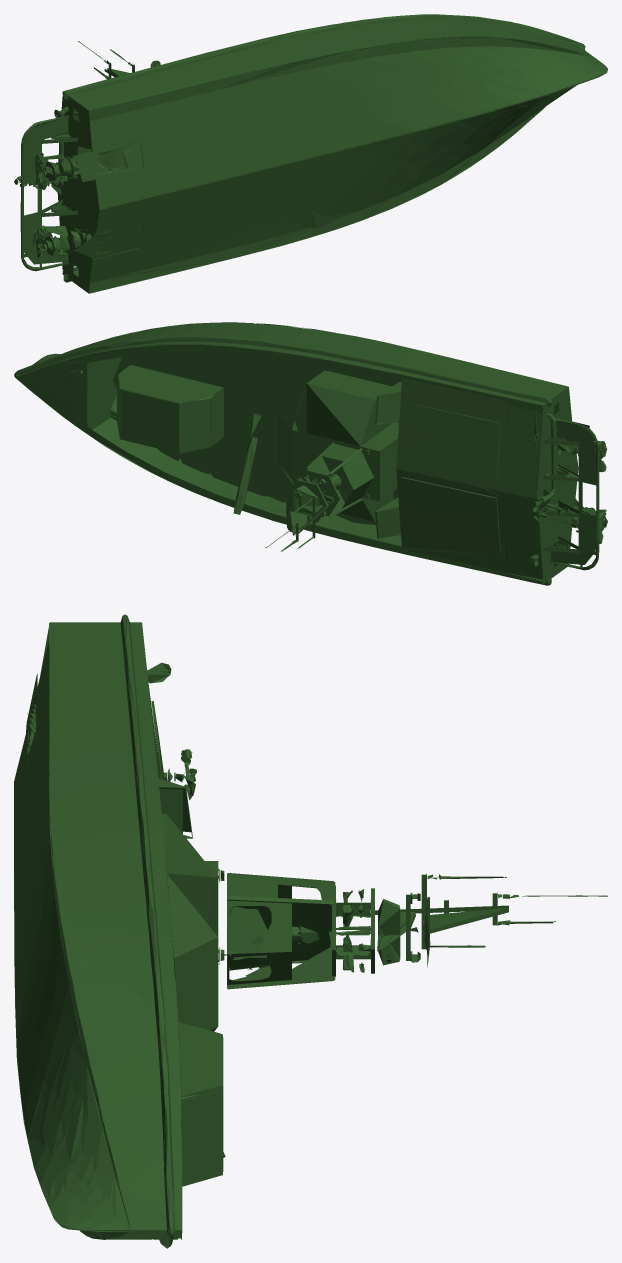
The model's file is inspear_ned_s.obj.
3 renders of one model, top to bottom at view 1: azimuth 30°, elevation 25°; view 2: azimuth 150°, elevation 25°; view 3: azimuth 270°, elevation 25°, orthographic. The views are drawn at different scales.
Visible parts, largest first — view 1: inspear_ned_s; view 2: inspear_ned_s; view 3: inspear_ned_s.
Part boxes in pixels (bbox=[...]): inspear_ned_s: bbox=[14, 14, 607, 293]; inspear_ned_s: bbox=[14, 322, 607, 585]; inspear_ned_s: bbox=[14, 614, 607, 1248].
Bounding box in the file's own units: 9.98 × 3.15 × 5.07.
